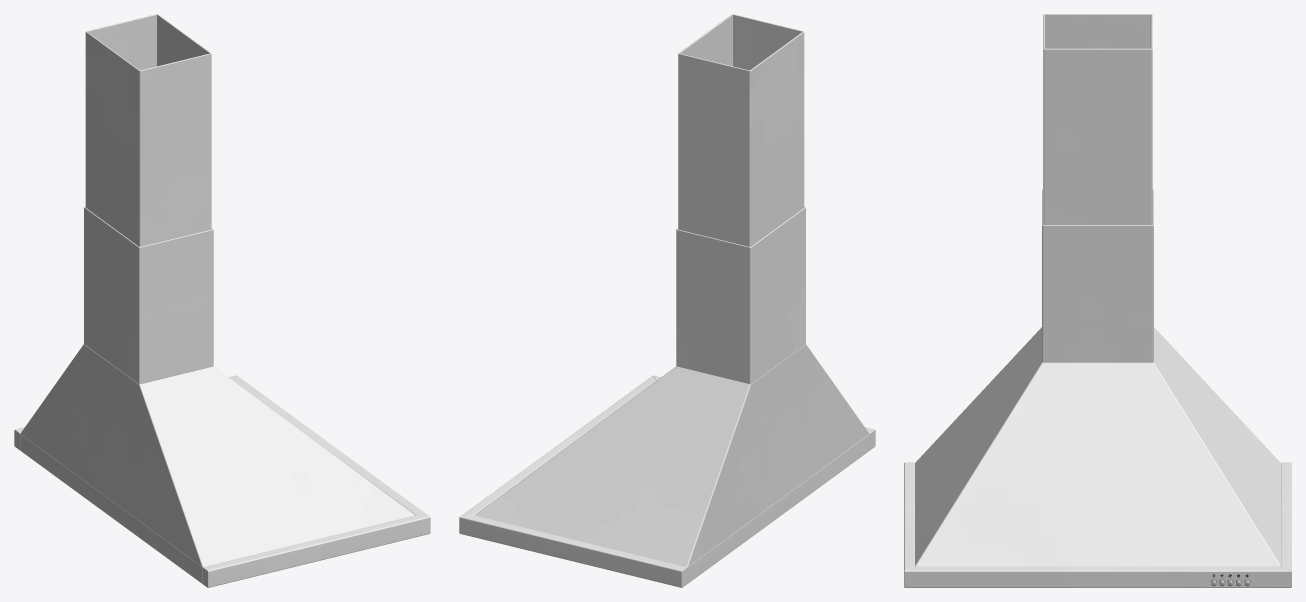
File: extractor.glb
3 views of the same model, side by side, from view 1: azimuth 30°, elevation 25°; view 2: azimuth 150°, elevation 25°; view 3: azimuth 270°, elevation 25° (orthographic).
Visible parts, largest first — view 1: body_01_mesh_00; view 2: body_01_mesh_00; view 3: body_01_mesh_00.
Part boxes in pixels (x1=…): body_01_mesh_00: x1=14, y1=14, x2=430, y2=587; body_01_mesh_00: x1=459, y1=14, x2=875, y2=587; body_01_mesh_00: x1=904, y1=14, x2=1291, y2=587.
Bounding box in the file's own units: 0.5064 × 0.9947 × 0.7501.
7 materials, 5 textured.
